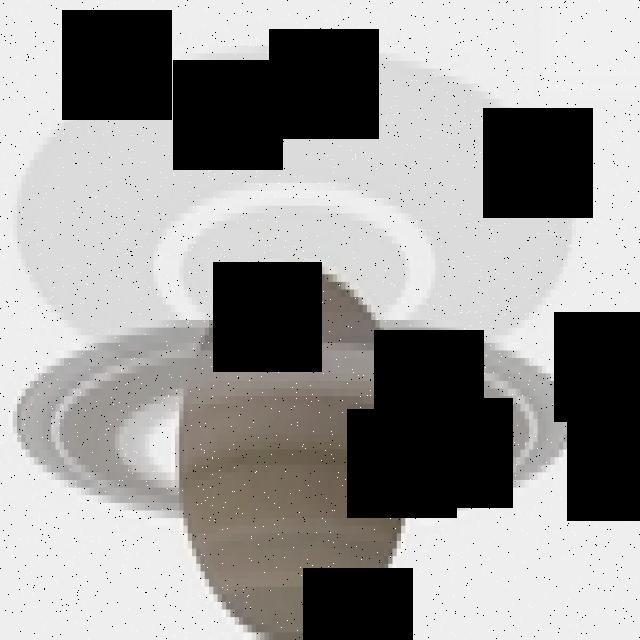Saturn: (13, 259, 576, 640)
